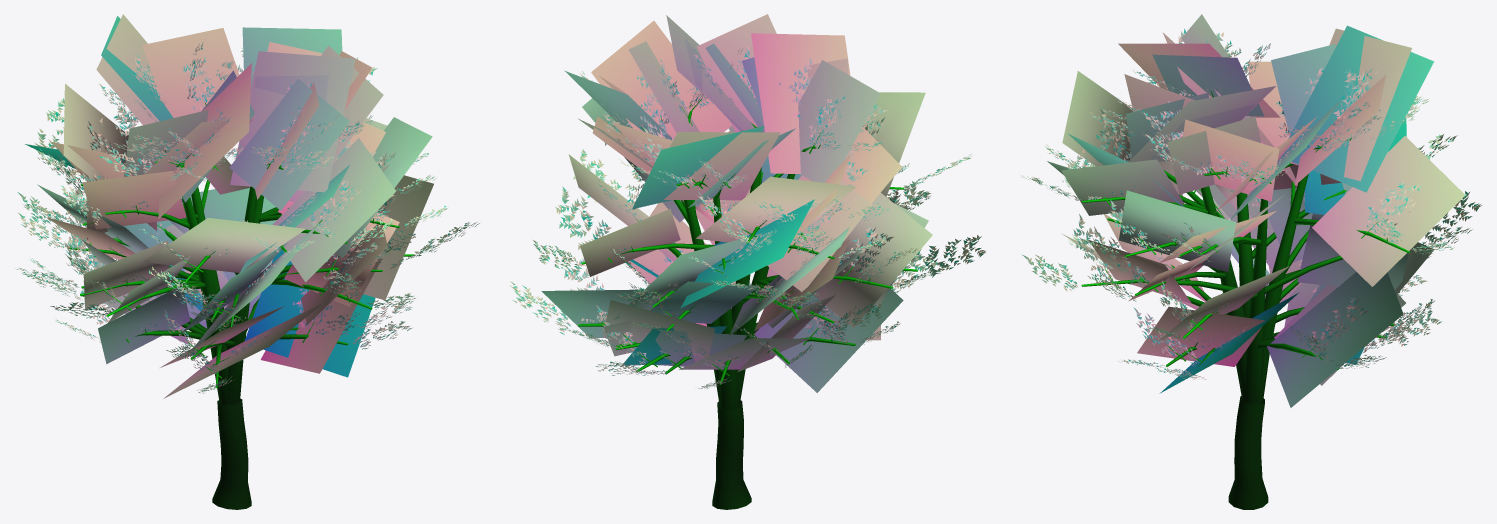
File: hill_a_3.glb
3 views of the same model, side by side, from view 1: azimuth 30°, elevation 25°; view 2: azimuth 150°, elevation 25°; view 3: azimuth 270°, elevation 25° (orthographic).
Visible parts, largest first — view 1: mid, near; view 2: mid, near; view 3: mid, near.
Boxes of the visible parts, x1,y1,x2,y2 form: mid: (25,14,433,405); near: (16,42,479,509); mid: (541,14,932,410); near: (509,46,985,509); mid: (1047,14,1465,407); near: (1021,28,1482,509).
Size of the model in its own units: 9.91 by 10.33 by 9.55.
